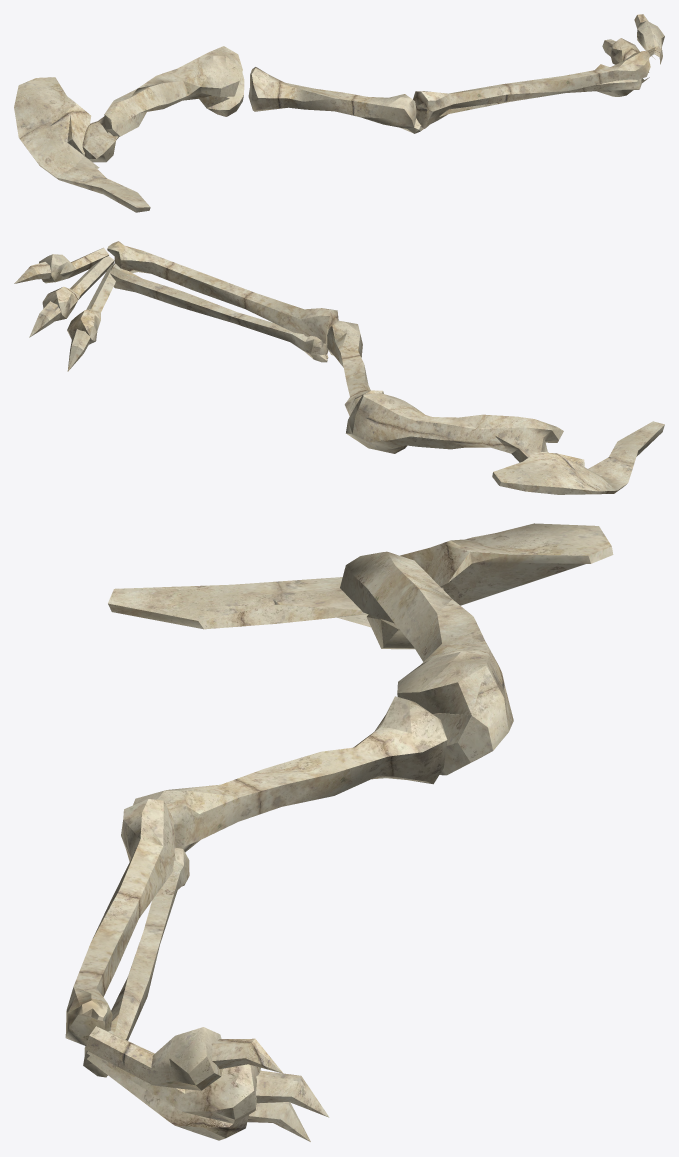
Rendered from TW2_5_BONES_01_9-transformed.glb.
3 renders of one model, top to bottom at view 1: azimuth 30°, elevation 25°; view 2: azimuth 150°, elevation 25°; view 3: azimuth 270°, elevation 25°, orthographic. The views are drawn at different scales.
Visible parts, largest first — view 1: 5_BONES_01_9; view 2: 5_BONES_01_9; view 3: 5_BONES_01_9.
Boxes of the visible parts, left/top/right/bottom form: 5_BONES_01_9: left=14, top=14, right=664, bottom=212; 5_BONES_01_9: left=14, top=241, right=664, bottom=494; 5_BONES_01_9: left=65, top=523, right=613, bottom=1141.
Bounding box in the file's own units: 4.04 × 0.5801 × 1.66.
Materials: 1 (1 with a texture image).
